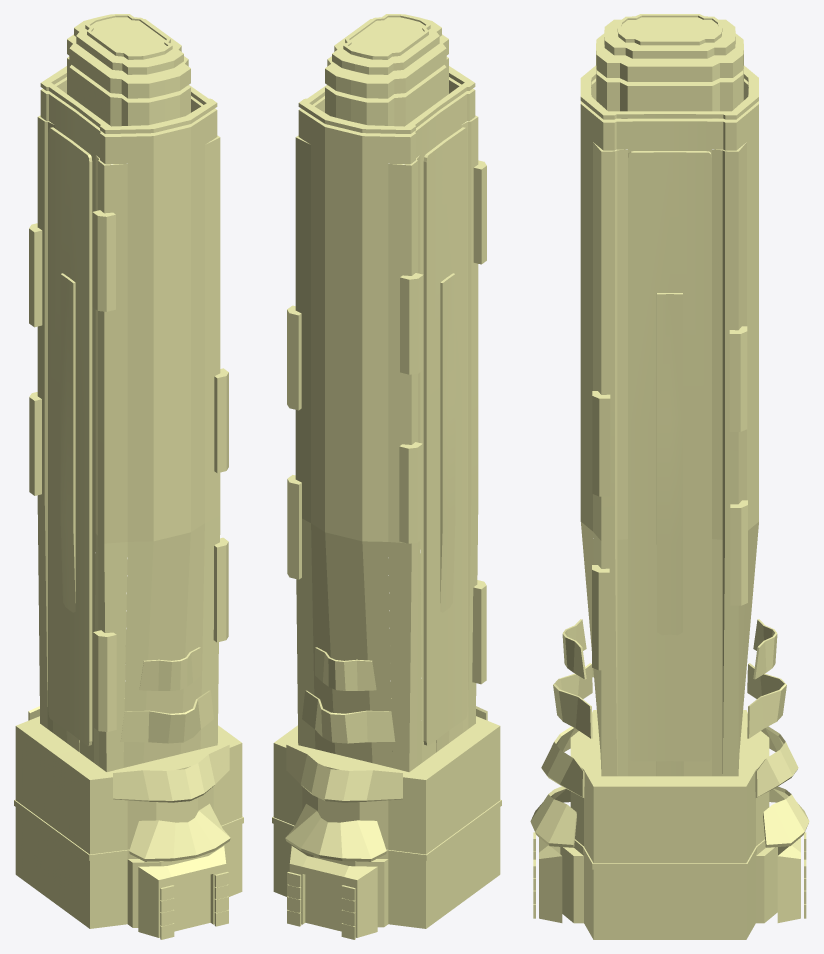
File: MangaKa Props - F_S_ScifiBuilding_16.glb
3 views of the same model, side by side, from view 1: azimuth 30°, elevation 25°; view 2: azimuth 150°, elevation 25°; view 3: azimuth 270°, elevation 25° (orthographic). The views are drawn at different scales.
Parts seen in each view (by area): view 1: F_S_ScifiBuilding_16_blueScreen, F_S_ScifiBuilding_16002_blueScreen, F_S_ScifiBuilding_16003_blueScreen, F_S_ScifiBuilding_16004_blueScreen, F_S_ScifiBuilding_16001_blueScreen; view 2: F_S_ScifiBuilding_16_blueScreen, F_S_ScifiBuilding_16002_blueScreen, F_S_ScifiBuilding_16003_blueScreen, F_S_ScifiBuilding_16004_blueScreen, F_S_ScifiBuilding_16001_blueScreen; view 3: F_S_ScifiBuilding_16_blueScreen, F_S_ScifiBuilding_16003_blueScreen, F_S_ScifiBuilding_16002_blueScreen, F_S_ScifiBuilding_16004_blueScreen, F_S_ScifiBuilding_16001_blueScreen.
Part boxes in pixels (x1,y1,x2,y2): F_S_ScifiBuilding_16_blueScreen: (15,56,242,928); F_S_ScifiBuilding_16002_blueScreen: (14,14,243,937); F_S_ScifiBuilding_16003_blueScreen: (28,127,230,931); F_S_ScifiBuilding_16004_blueScreen: (29,210,228,939); F_S_ScifiBuilding_16001_blueScreen: (67,34,190,98); F_S_ScifiBuilding_16_blueScreen: (273,56,500,928); F_S_ScifiBuilding_16002_blueScreen: (272,14,501,937); F_S_ScifiBuilding_16003_blueScreen: (285,127,487,931); F_S_ScifiBuilding_16004_blueScreen: (287,160,486,939); F_S_ScifiBuilding_16001_blueScreen: (325,34,448,98); F_S_ScifiBuilding_16_blueScreen: (560,65,777,939); F_S_ScifiBuilding_16003_blueScreen: (530,151,809,847); F_S_ScifiBuilding_16002_blueScreen: (539,14,800,922); F_S_ScifiBuilding_16004_blueScreen: (533,293,806,918); F_S_ScifiBuilding_16001_blueScreen: (596,33,743,81).
Size of the model in its own units: 5.15 by 27.02 by 7.82.
